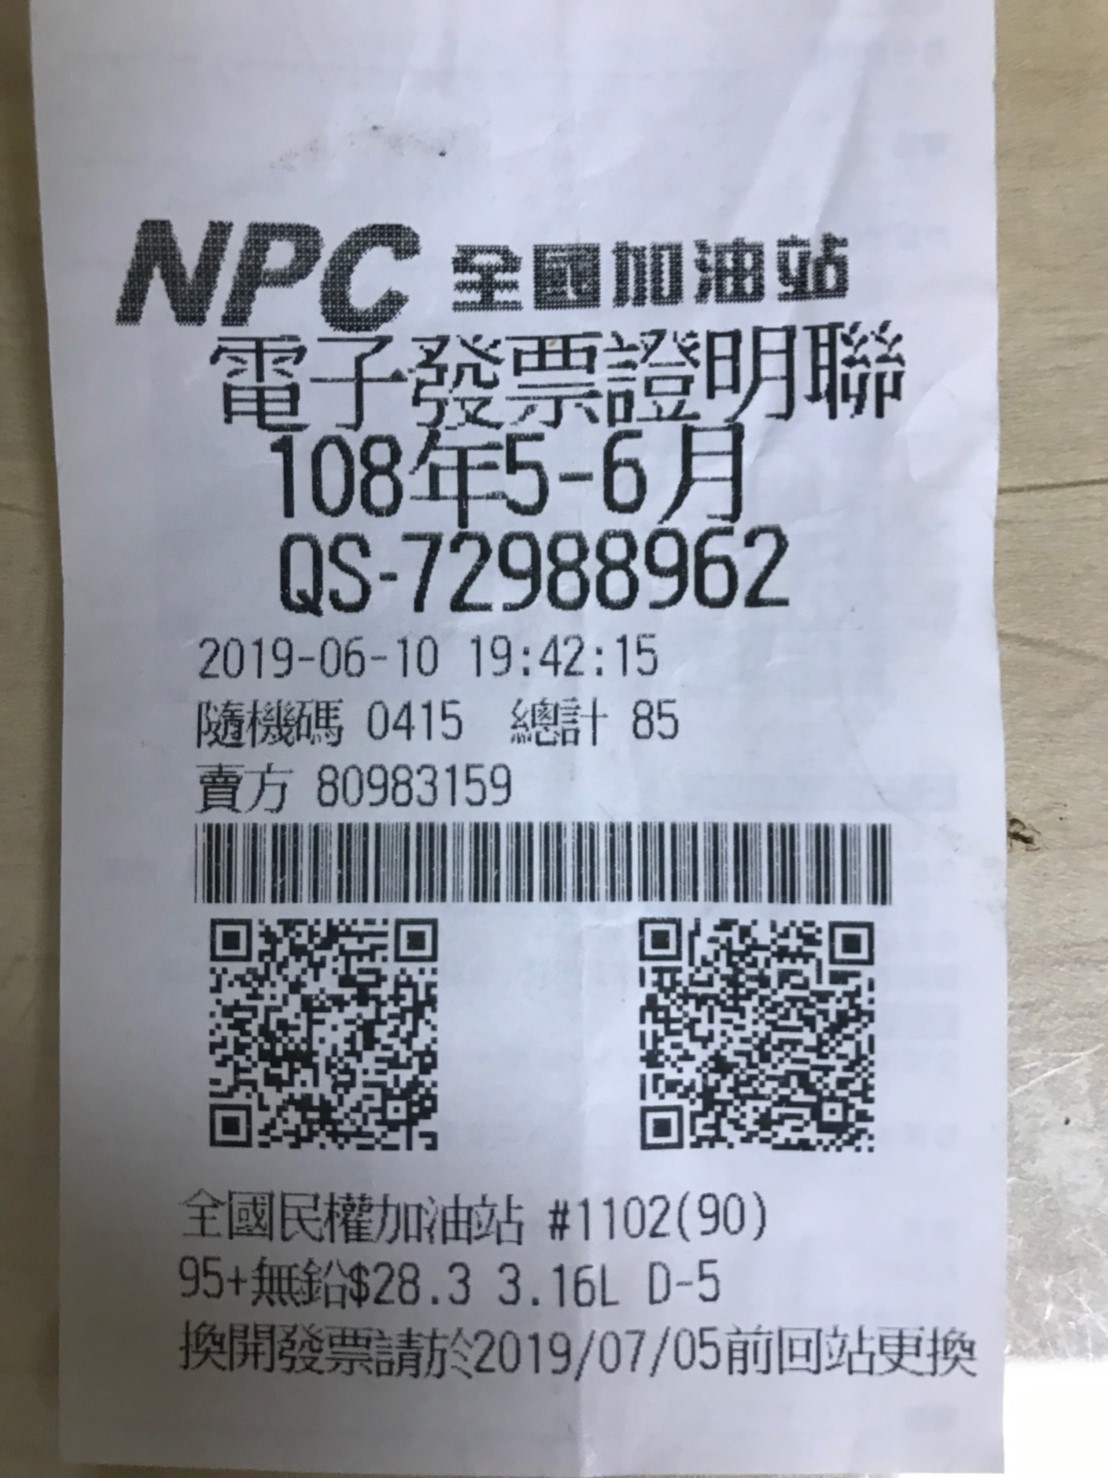Date_New: (267, 422, 748, 523)
Number_New: (399, 523, 794, 614)
